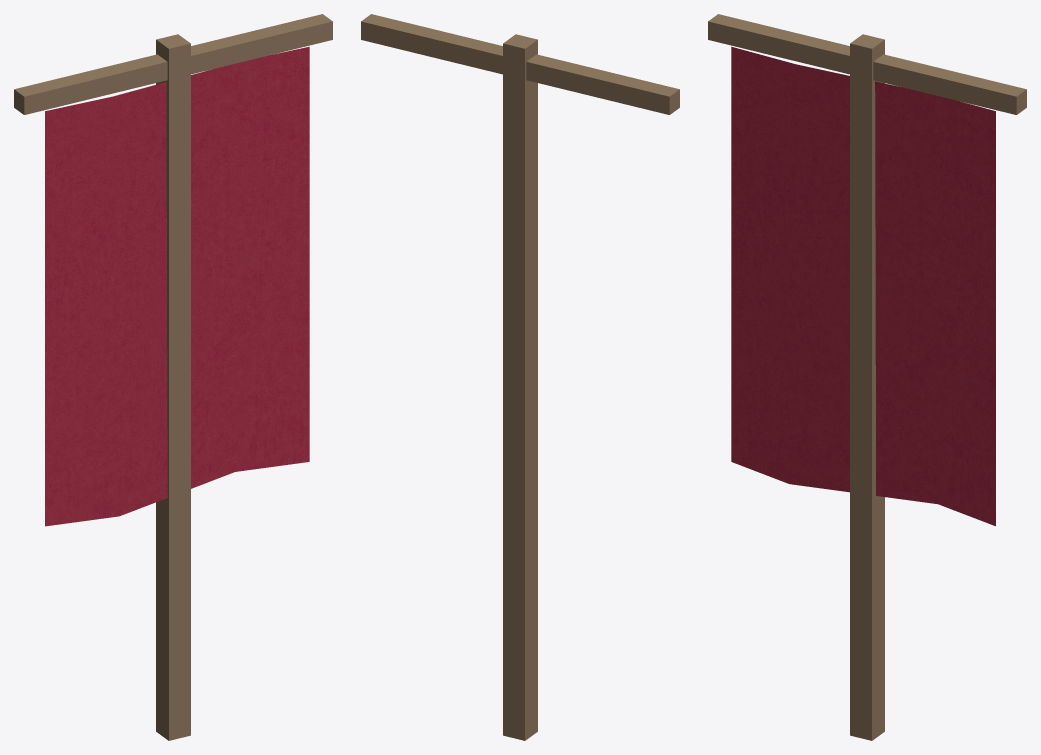
Rendered from banner.gltf.
The picture shows the model from 3 angles, left to right: view 1: azimuth 30°, elevation 25°; view 2: azimuth 150°, elevation 25°; view 3: azimuth 330°, elevation 25°; orthographic projection.
Parts seen in each view (by area): view 1: banner_cloth, banner_pole, banner_bar; view 2: banner_pole, banner_bar; view 3: banner_cloth, banner_pole, banner_bar.
Part boxes in pixels (x1=…): banner_cloth: x1=45, y1=46, x2=309, y2=526; banner_pole: x1=156, y1=34, x2=190, y2=740; banner_bar: x1=14, y1=14, x2=332, y2=114; banner_pole: x1=503, y1=34, x2=537, y2=740; banner_bar: x1=361, y1=14, x2=679, y2=114; banner_cloth: x1=731, y1=46, x2=995, y2=526; banner_pole: x1=850, y1=34, x2=884, y2=740; banner_bar: x1=708, y1=14, x2=1026, y2=114.
Bounding box in the file's own units: 1.4 × 3 × 0.145.
2 materials, 1 textured.
